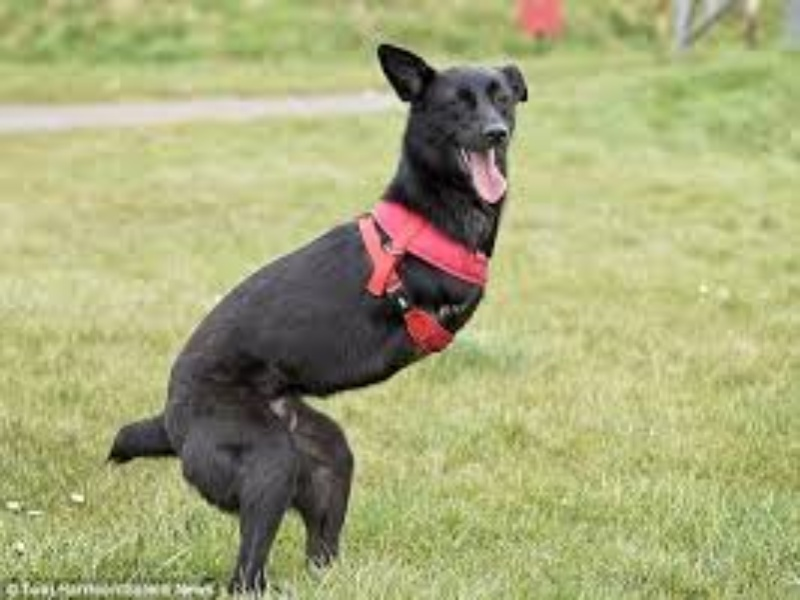dog: (112, 37, 533, 600)
